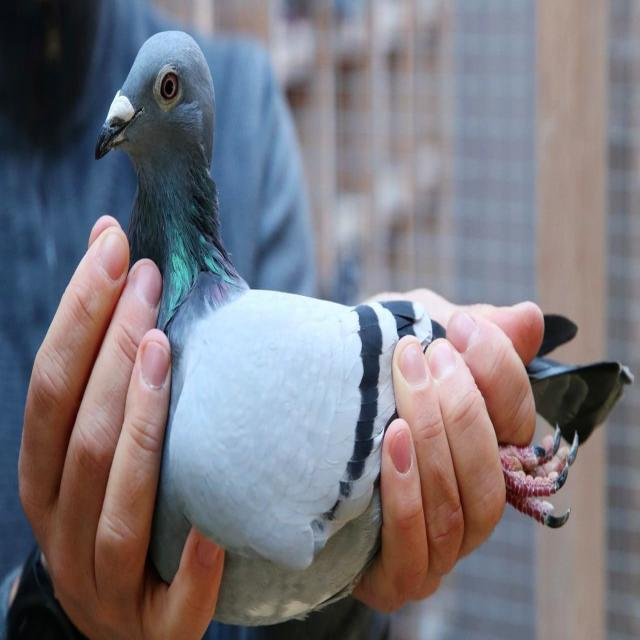pigeon: (96, 32, 444, 625)
